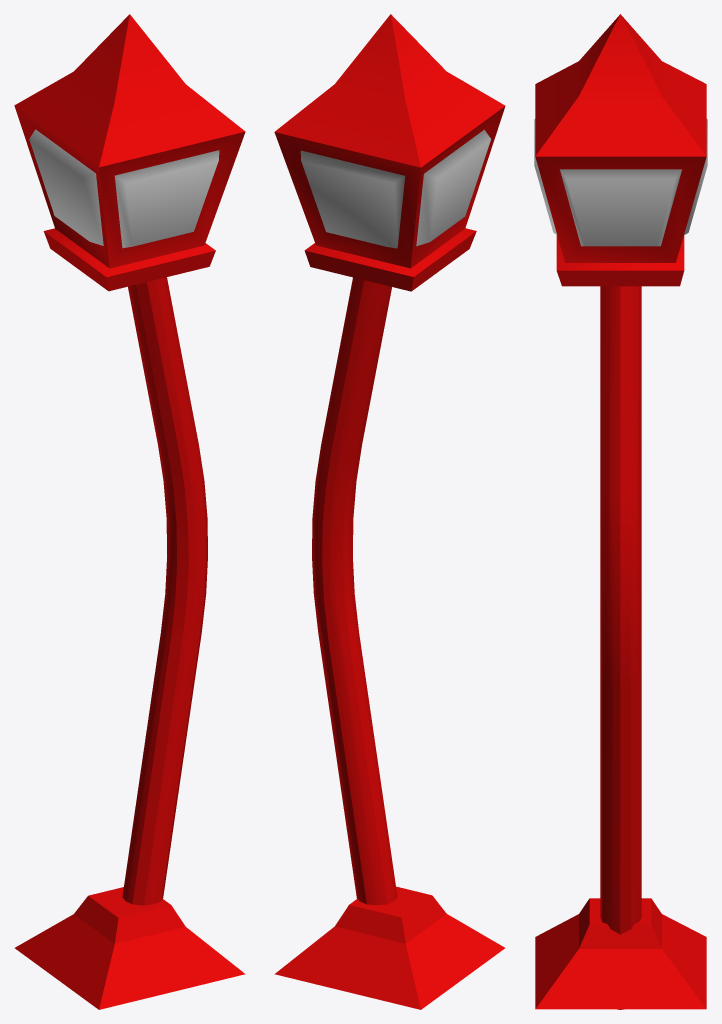
Rendered from light1.fbx.
The picture shows the model from 3 angles, left to right: view 1: azimuth 30°, elevation 25°; view 2: azimuth 150°, elevation 25°; view 3: azimuth 270°, elevation 25°; orthographic projection.
Parts seen in each view (by area): view 1: Light1:Light1_0; view 2: Light1:Light1_0; view 3: Light1:Light1_0.
Boxes of the visible parts, bbox=[...] form: Light1:Light1_0: bbox=[14, 14, 245, 1009]; Light1:Light1_0: bbox=[274, 14, 505, 1009]; Light1:Light1_0: bbox=[534, 14, 707, 1009].
Size of the model in its own units: 0.5403 by 3.35 by 0.5344.
